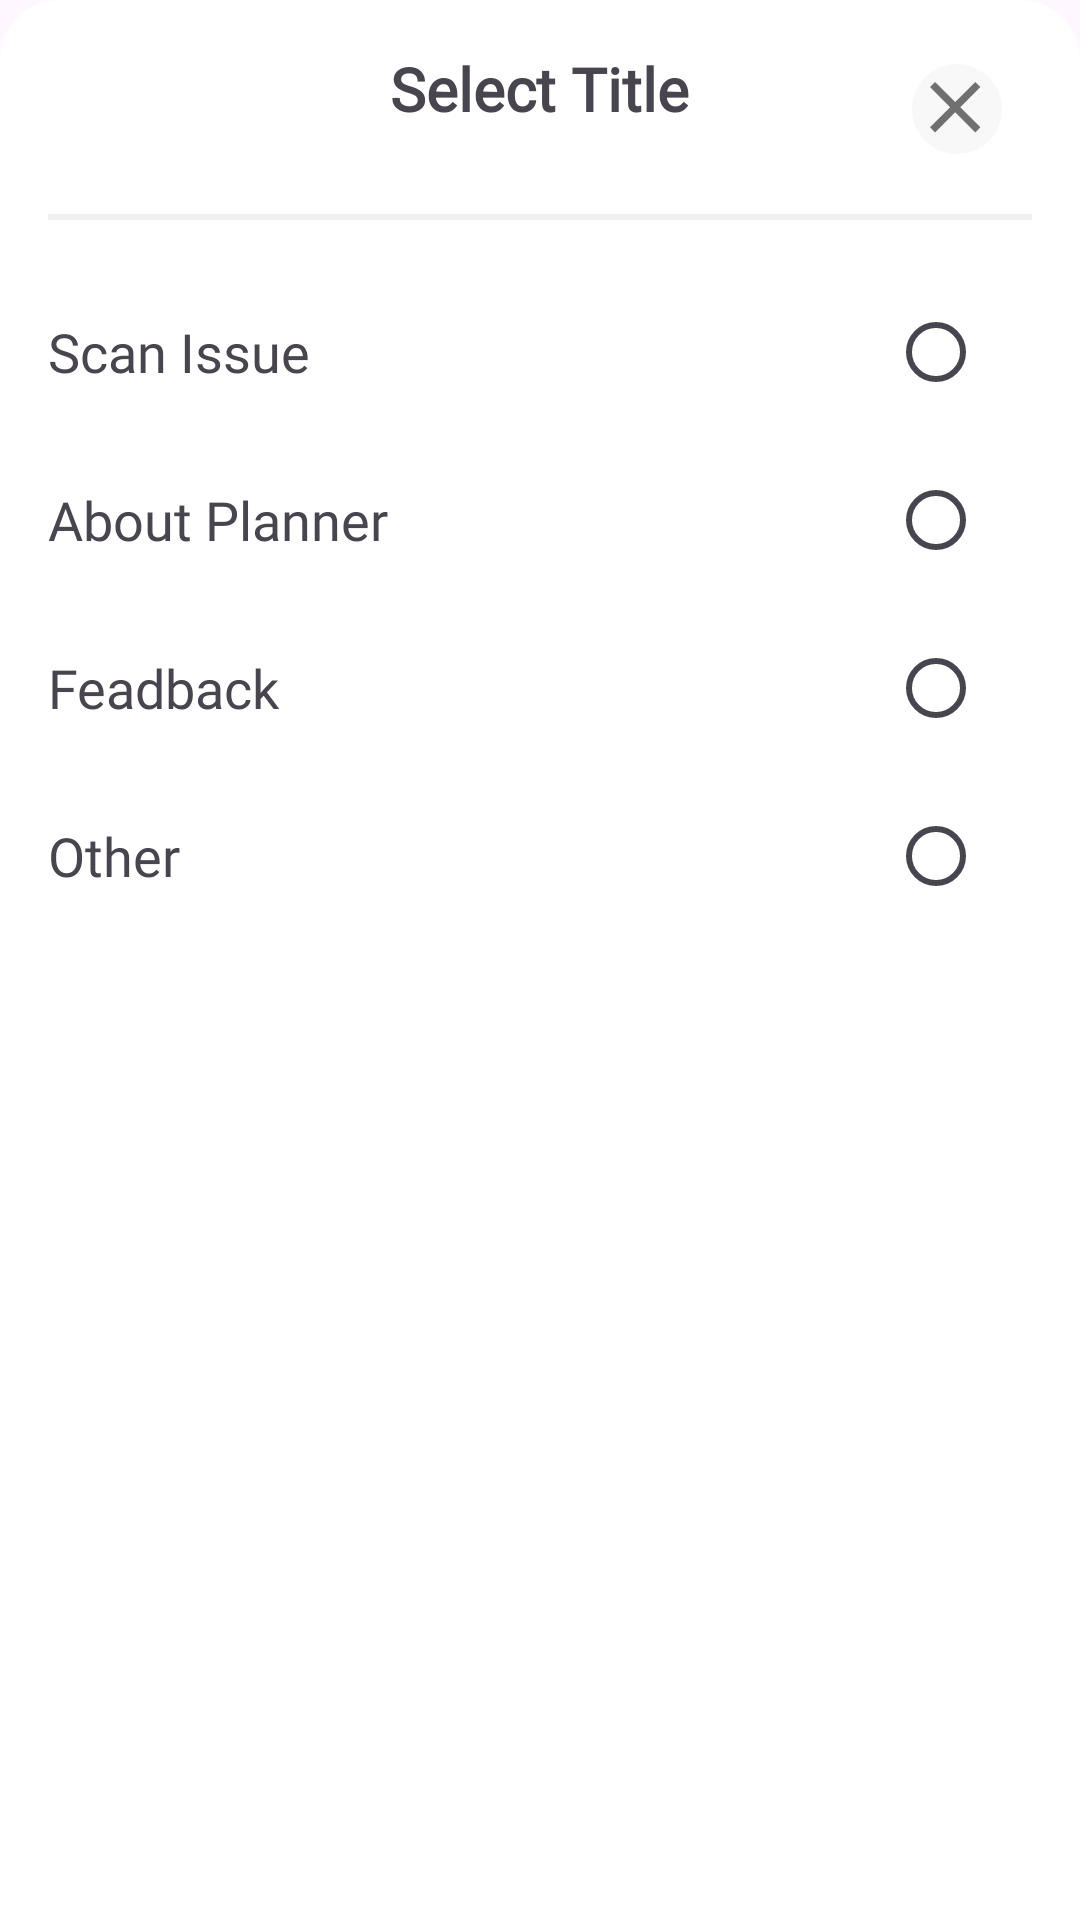

Icons on this 1080x1920 Android screen, each with its box as (x1, y1, x2, y2):
close: (930, 82, 981, 133)
